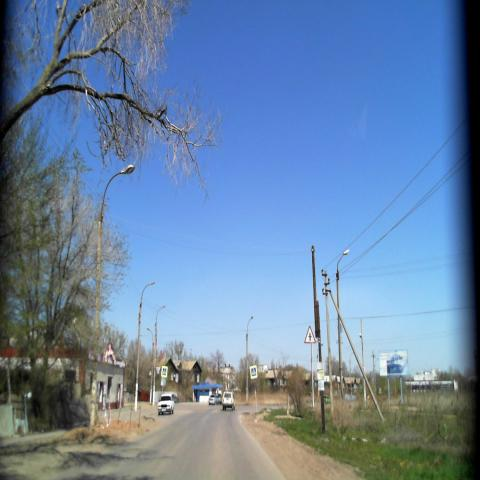2_3: (304, 325, 316, 345)
